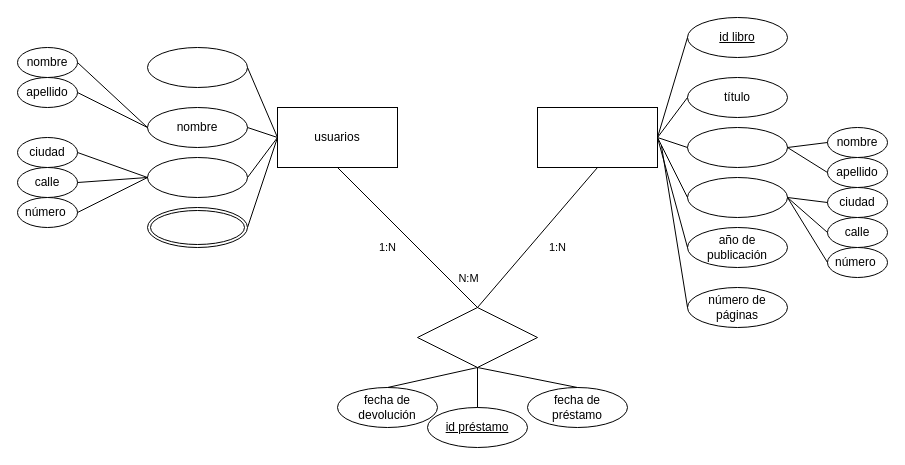
The diagram is 905 pixels wide and 465 high, and some of its shapes have lost their labels. Each missing label, with the centre of its shape:
"autor" belongs at [737,147].
"dirección" belongs at [197,177].
"editorial" belongs at [737,197].
"id usuarios" belongs at [197,67].
"libro" belongs at [597,137].
"préstamo" belongs at [477,337].
"teléfono" belongs at [197,227].
